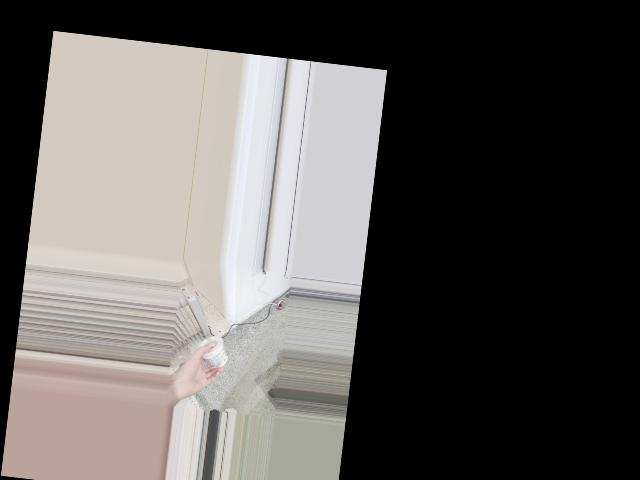cotage: (196, 335, 230, 371)
